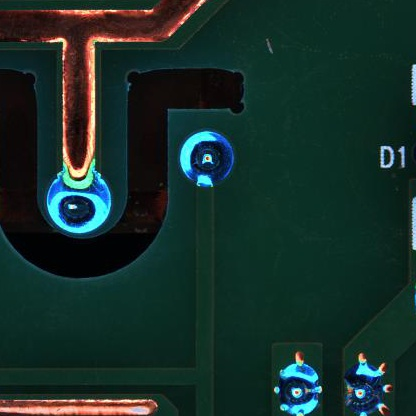spot: (46, 170, 111, 239), (181, 129, 238, 189), (273, 352, 324, 415), (343, 352, 391, 416)
